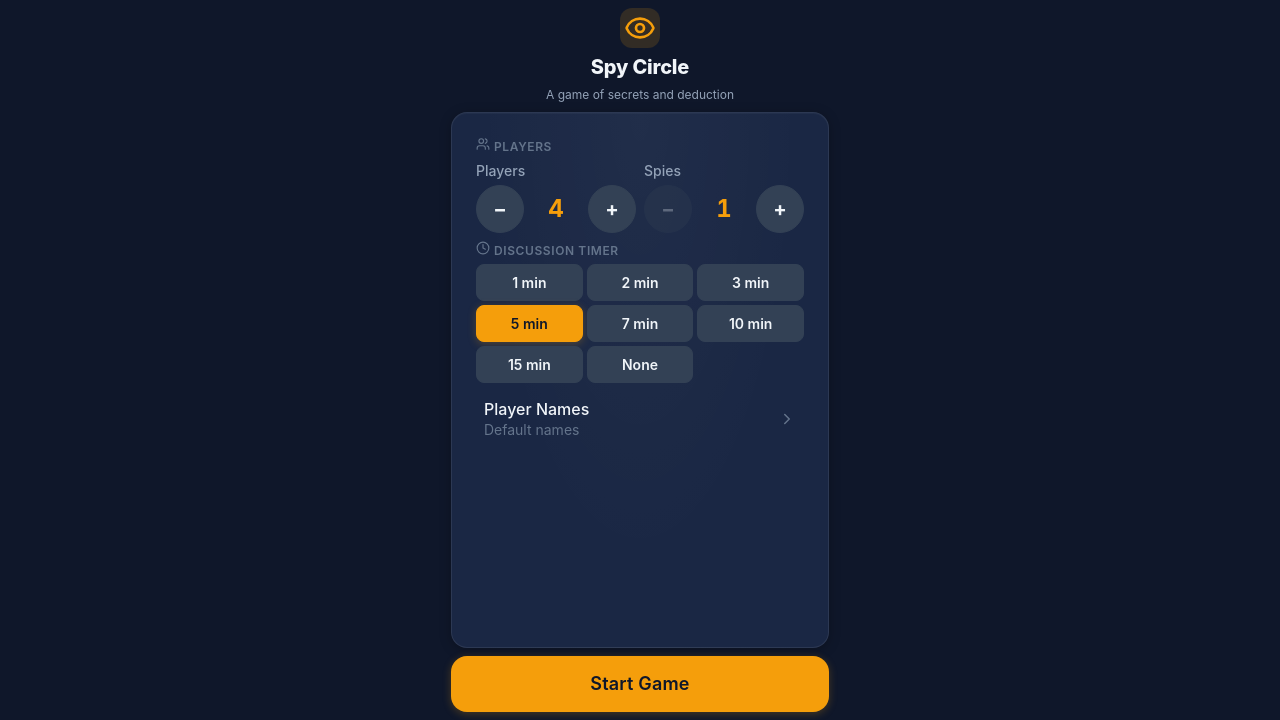
Scenario: PlayScreen › reveals name inputs when custom names are enabled in the modal
The width and height of the screenshot is (1280, 720).
Click the button "Player Names Default names". click: [537, 409]
box: [476,391,804,446]
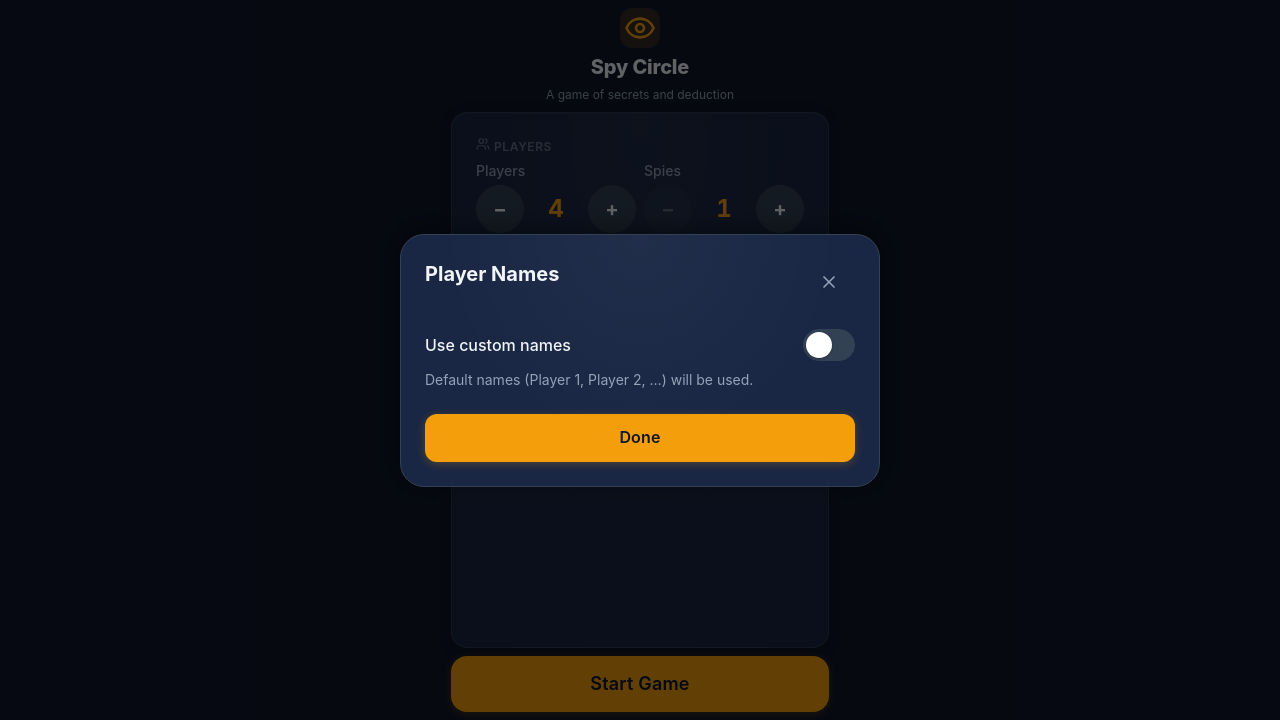
Click the checkbox labelled "Use custom names". click: [498, 344]
box: [425,320,855,368]
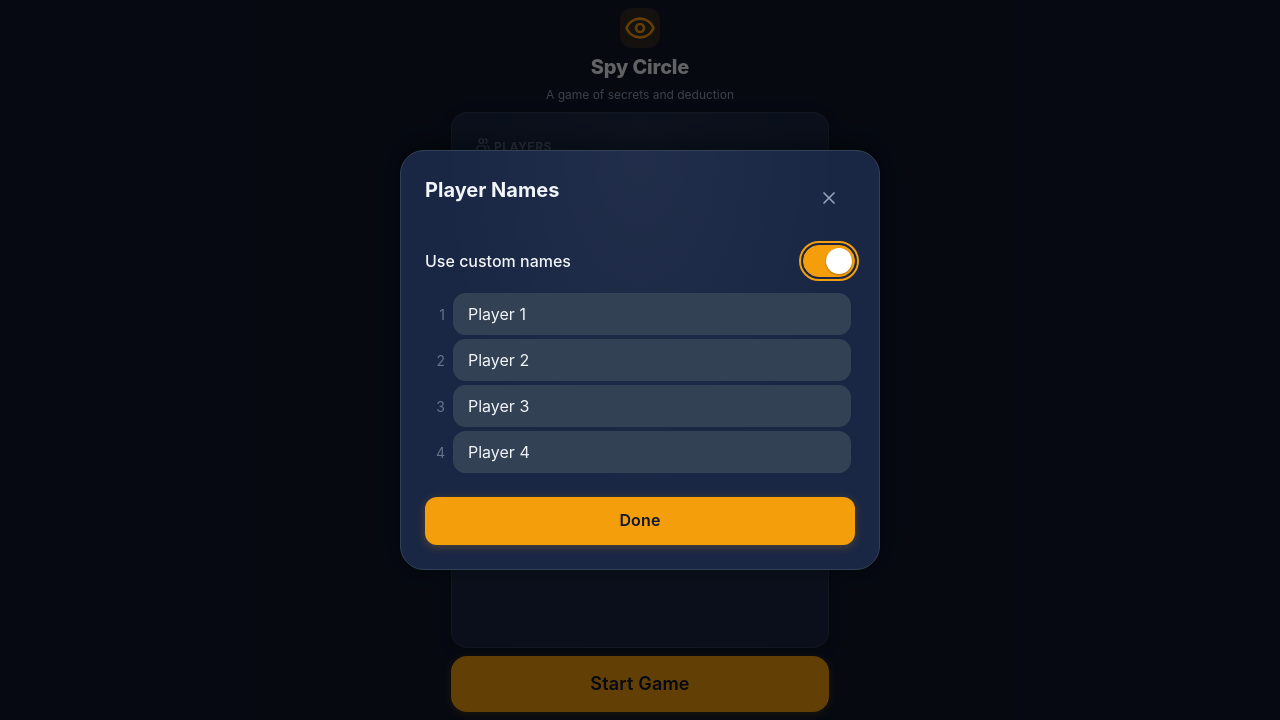
Now the field named "Player 1 name" is shown, box [453,293,851,335]
Now the field named "Player 2 name" is shown, box [453,339,851,381]
Now the field named "Player 3 name" is shown, box [453,385,851,427]
